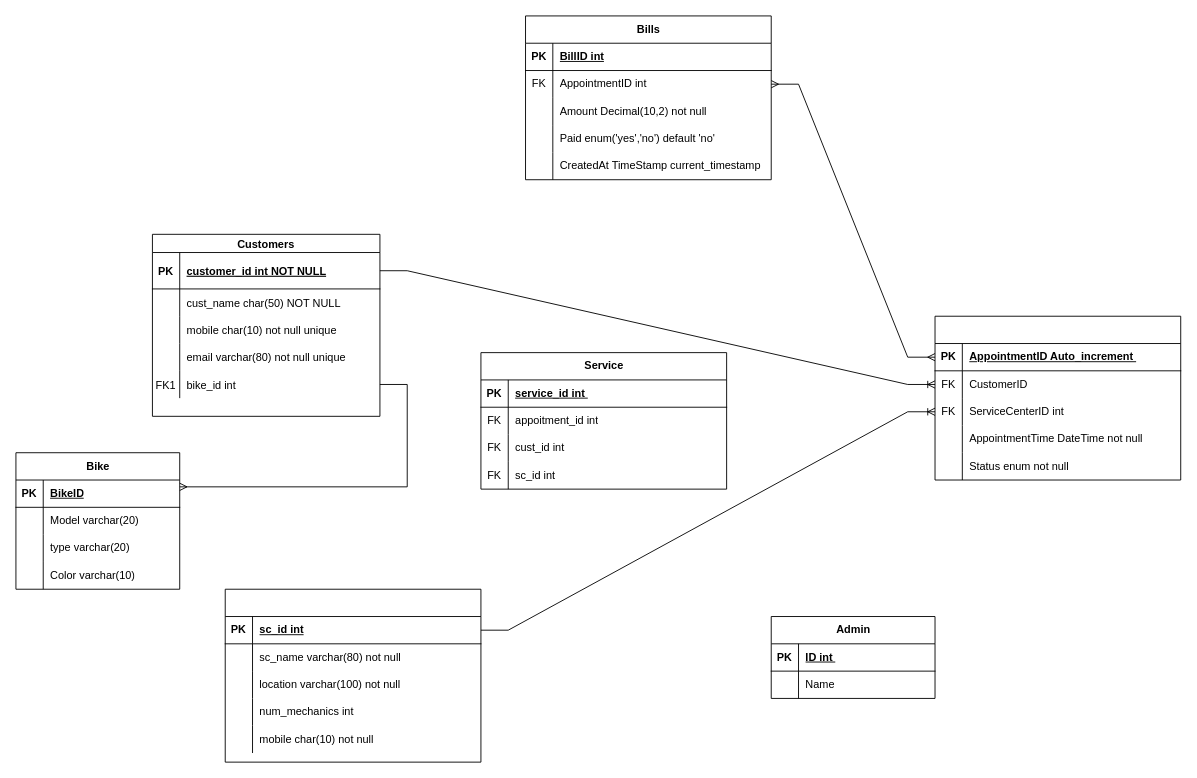
The diagram is 1197 pixels wide and 778 high, and some of its shapes have lost their labels. Each missing label, with the box of its shape:
Appointments: (934, 315, 1181, 480)
Service Centre: (224, 588, 481, 762)
